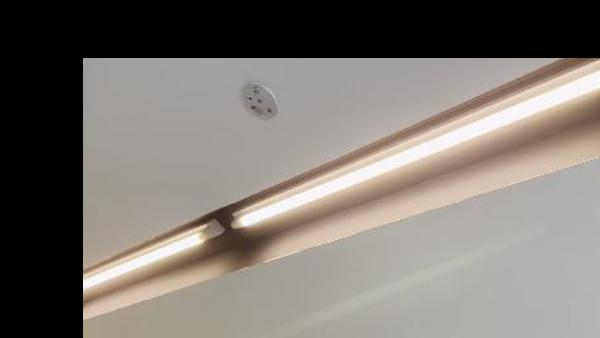light_on: (220, 35, 600, 240), (45, 180, 217, 315), (0, 287, 52, 334)
